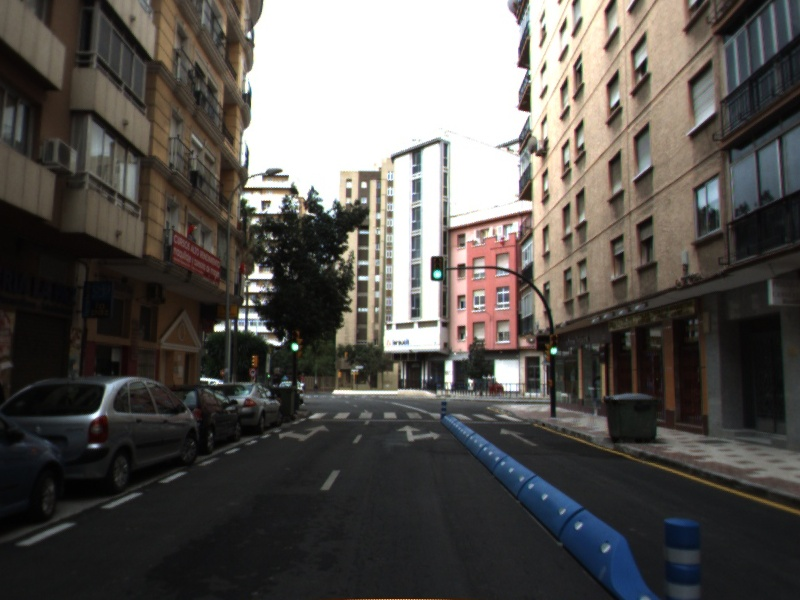STRAIGHT: (498, 426, 542, 449)
STRAIGHT_LEFT: (276, 423, 332, 444)
STRAIGHT_RIGHT: (394, 423, 444, 444)
